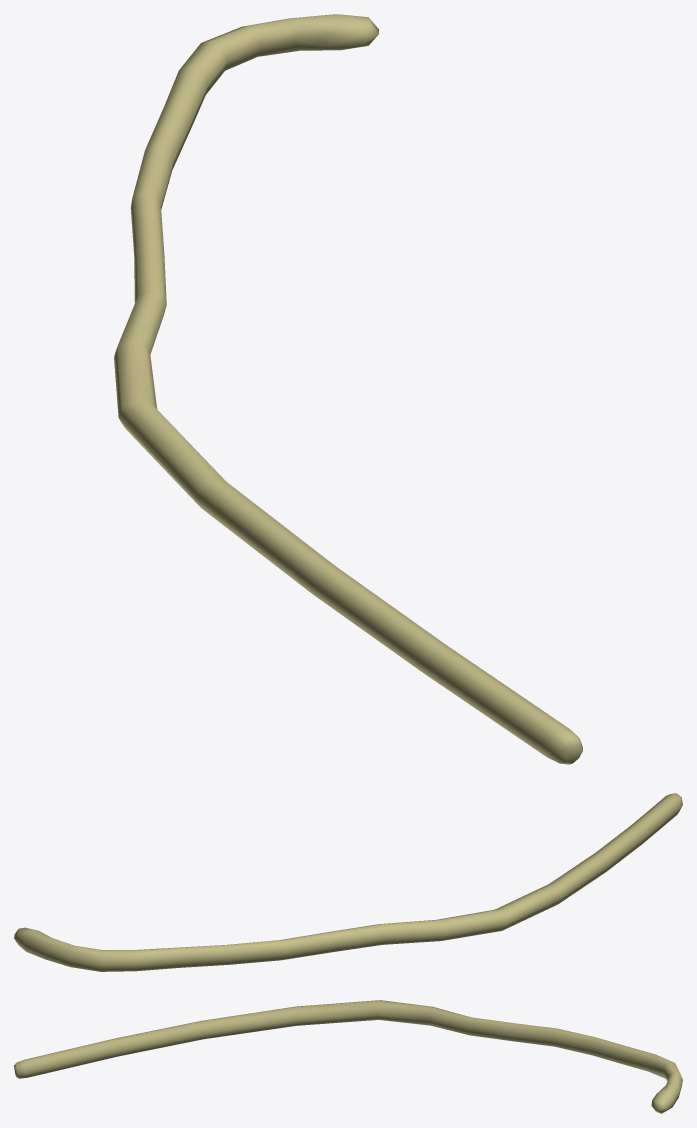
Rendered from Nerves_R1.FBX.
3 views of the same model, one above another, from view 1: azimuth 30°, elevation 25°; view 2: azimuth 150°, elevation 25°; view 3: azimuth 270°, elevation 25° (orthographic). The views are drawn at different scales.
Visible parts, largest first — view 1: Nerves_R1; view 2: Nerves_R1; view 3: Nerves_R1.
Boxes of the visible parts, box(x1,y1,x2,y2) form: Nerves_R1: box(114, 14, 582, 764); Nerves_R1: box(14, 793, 682, 971); Nerves_R1: box(14, 1000, 682, 1113).
Bounding box in the file's own units: 0.0115 × 0.00356 × 0.0244.
